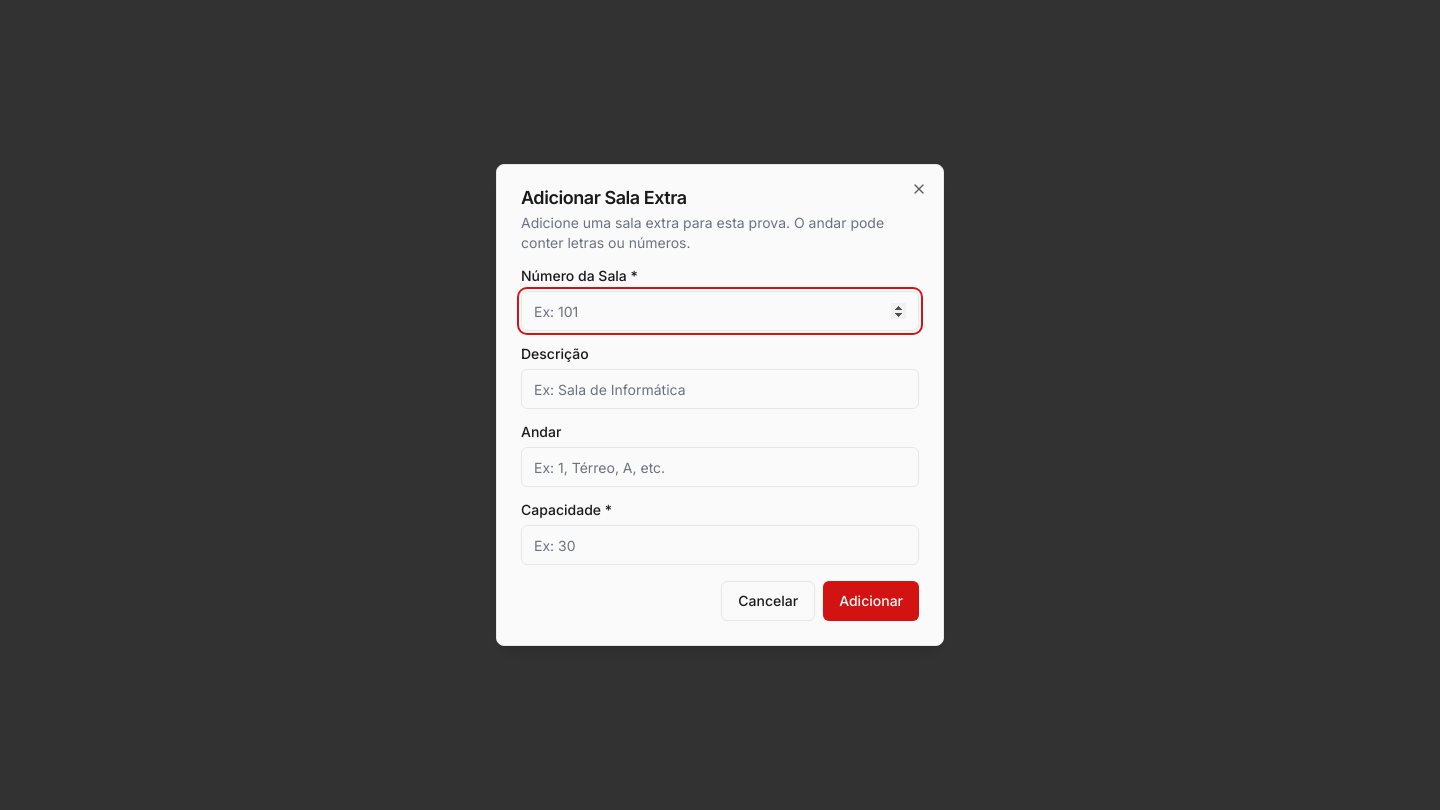
Test: SalaExtraDialog (interação) › a checagem que trabalha: número duplicado › recusa número que já existe na unidade, sem submeter
The width and height of the screenshot is (1440, 810).
Type "101" into the number field labelled "Número da Sala *". click: (720, 311)
box: [521, 291, 919, 331]
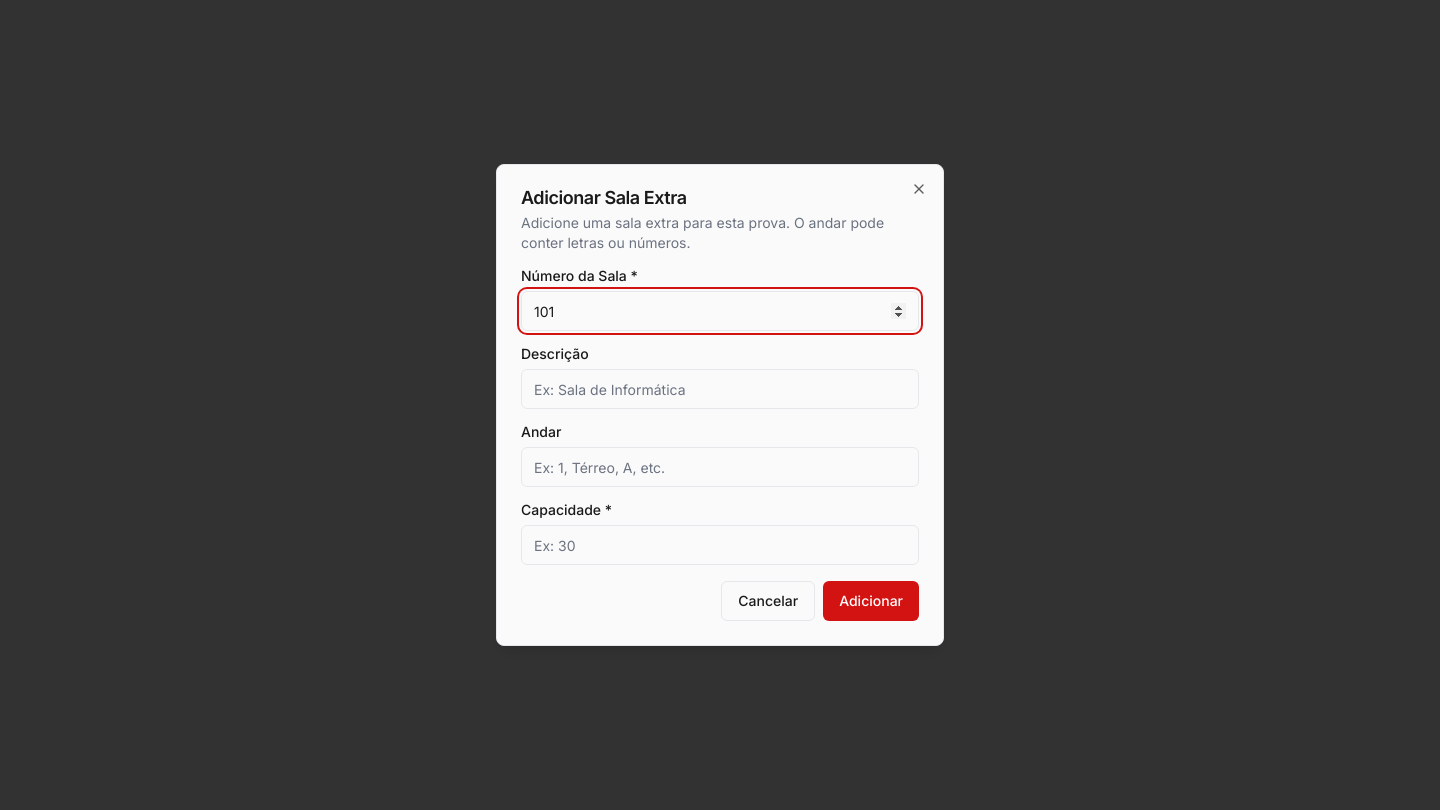
Type "30" into the number field labelled "Capacidade *". click: (720, 545)
box: [521, 525, 919, 565]
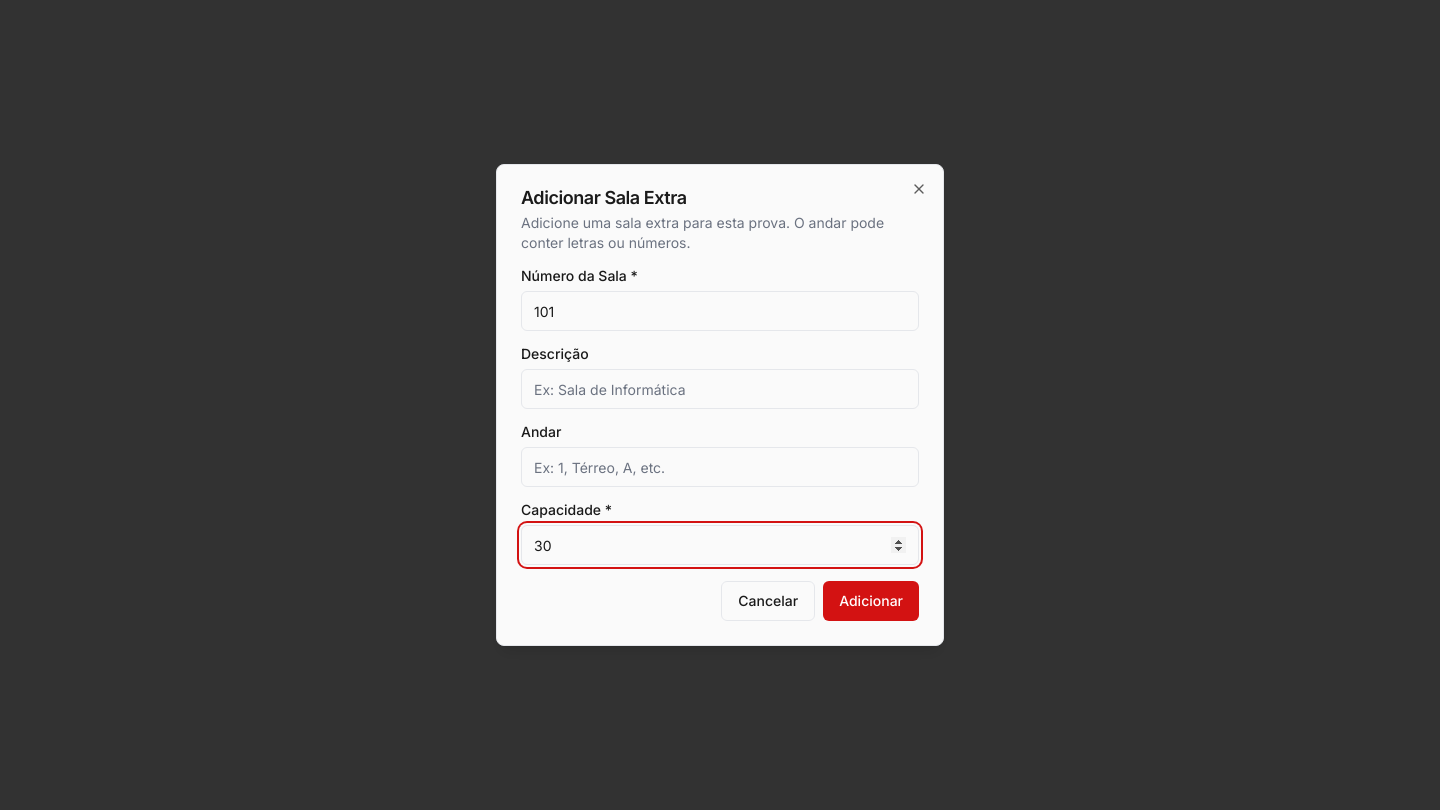
Click the button "Adicionar". click: (871, 601)
box: [823, 581, 919, 621]
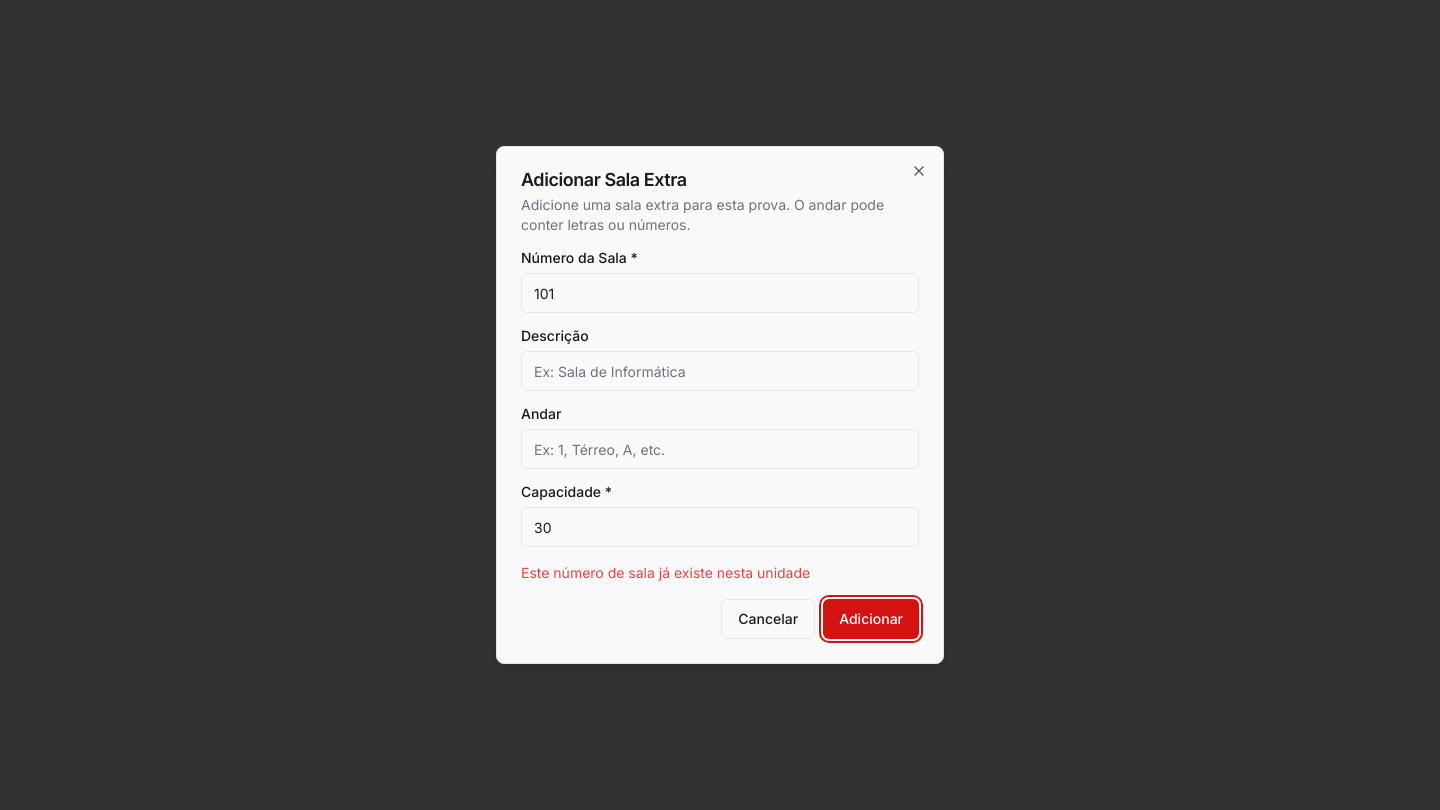
Now the text "Este número de sala já existe nesta unidade" is shown, box [521, 564, 810, 581]
